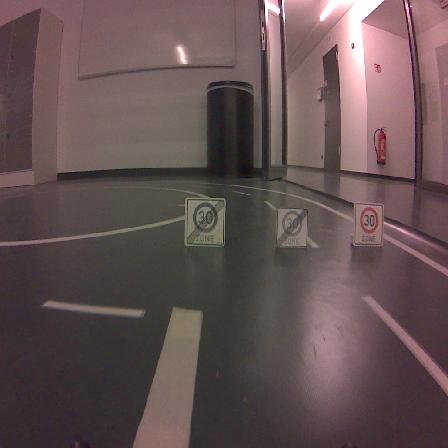30_ZONE_BEGIN: (354, 202, 384, 246)
30_ZONE_END: (185, 198, 226, 246), (276, 208, 308, 247)
